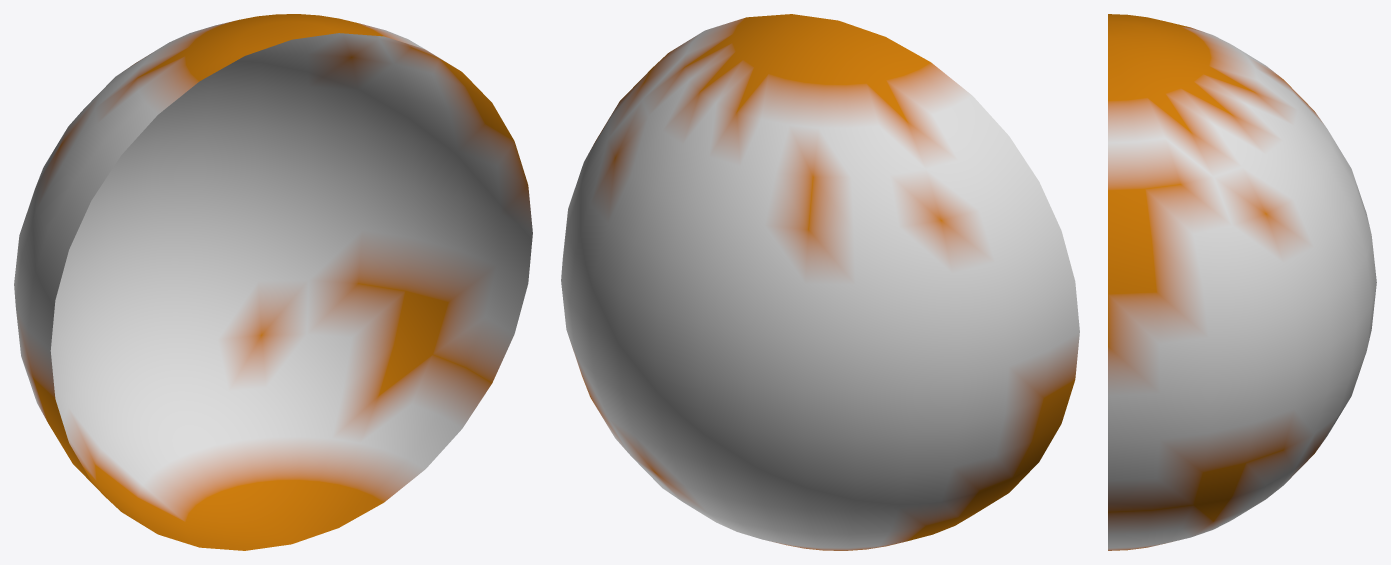
The model's file is huduan_2.FBX.
3 renders of one model, left to right at view 1: azimuth 30°, elevation 25°; view 2: azimuth 150°, elevation 25°; view 3: azimuth 270°, elevation 25°, orthographic. The views are drawn at different scales.
Visible parts, largest first — view 1: Sphere003; view 2: Sphere003; view 3: Sphere003.
Boxes of the visible parts, <box> form: Sphere003: <box>14,14,532,550</box>; Sphere003: <box>561,14,1079,550</box>; Sphere003: <box>1108,14,1376,550</box>.
Bounding box in the file's own units: 0.7386 × 0.7386 × 0.3693.
